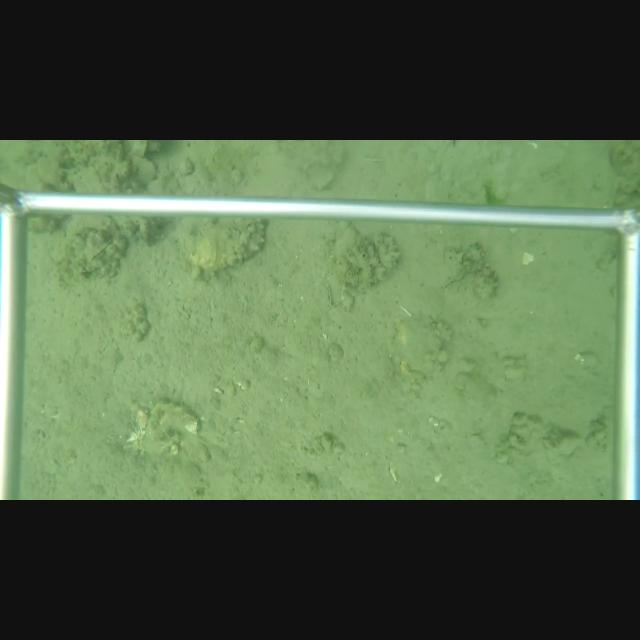Oyster-Closed: (188, 219, 268, 274), (438, 263, 487, 296), (84, 241, 116, 265)
